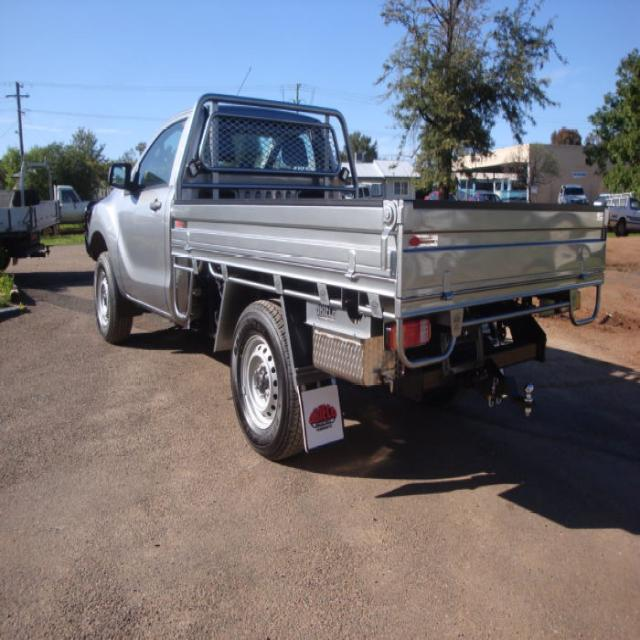light_vehicle: (72, 84, 606, 469)
